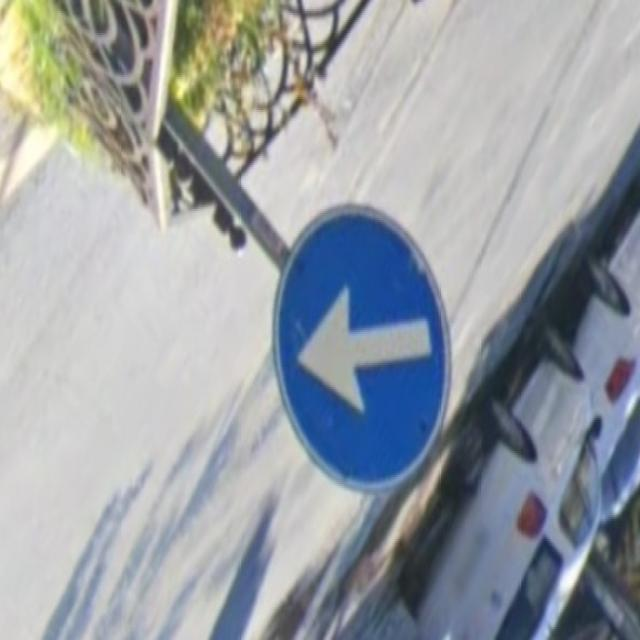Turn Left: (275, 213, 455, 491)
